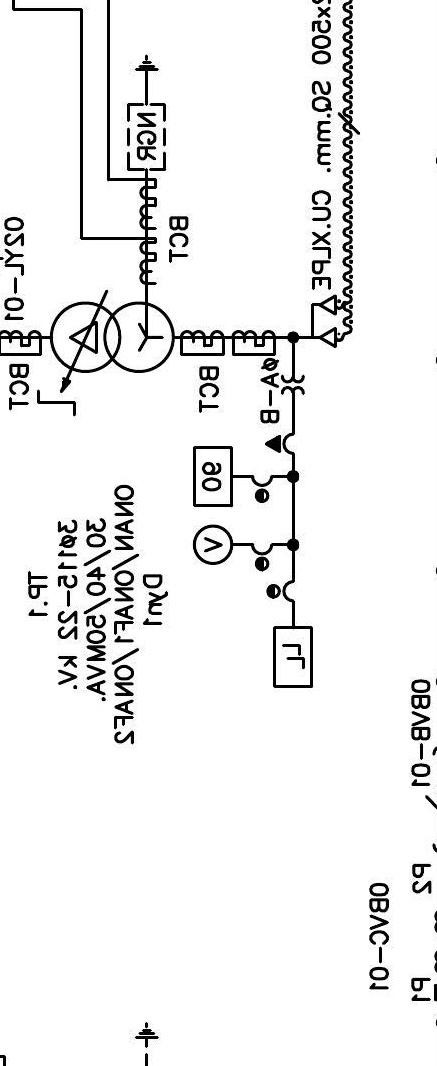11522_tx_dyn1: (49, 301, 176, 374)
LL: (272, 625, 314, 689)
NGR_future: (126, 54, 167, 172)
terminator_double: (310, 294, 337, 348)
v_m: (192, 523, 234, 566)
